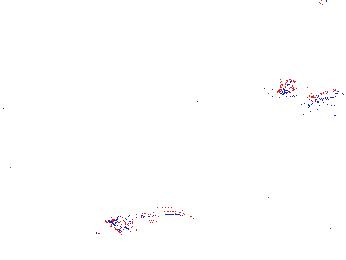glassfish: (106, 205, 192, 231), (262, 75, 320, 113)
redtail glassfish: (247, 1, 307, 25)
